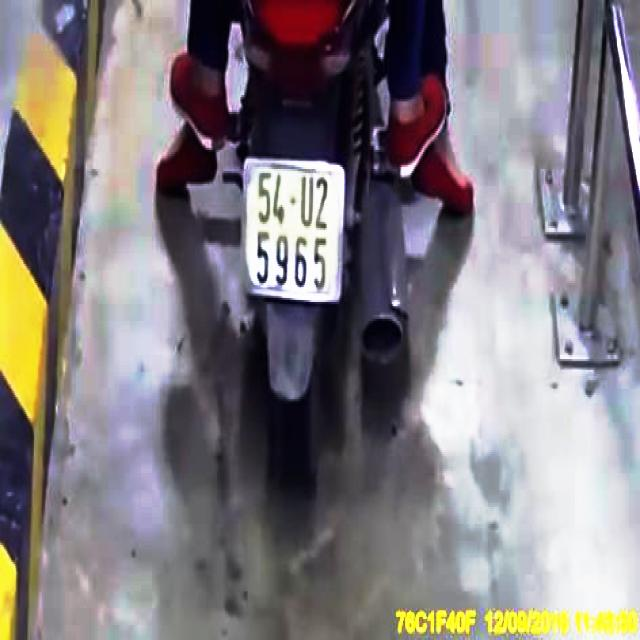license_plate: (245, 163, 343, 298)
